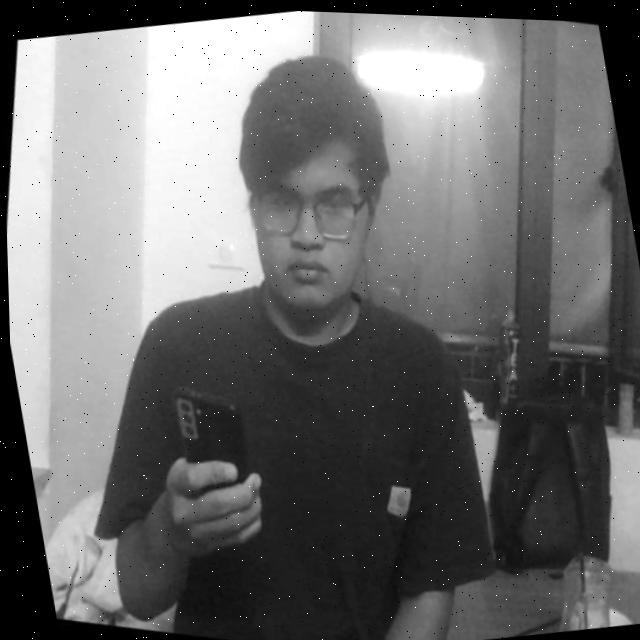phone: (120, 350, 289, 561)
